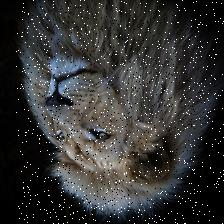Lion: (16, 0, 224, 224)
